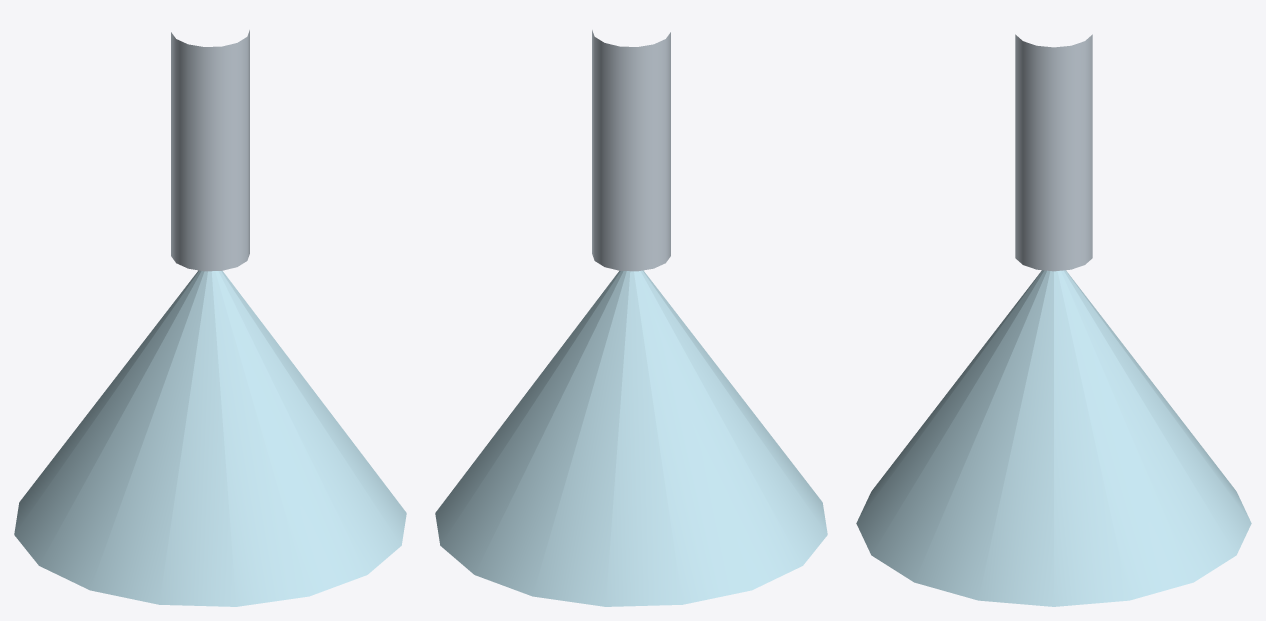
Rendered from flask.glb.
3 views of the same model, side by side, from view 1: azimuth 30°, elevation 25°; view 2: azimuth 150°, elevation 25°; view 3: azimuth 270°, elevation 25° (orthographic).
Bounding box in the file's own units: 0.8 × 1.1 × 0.8.
